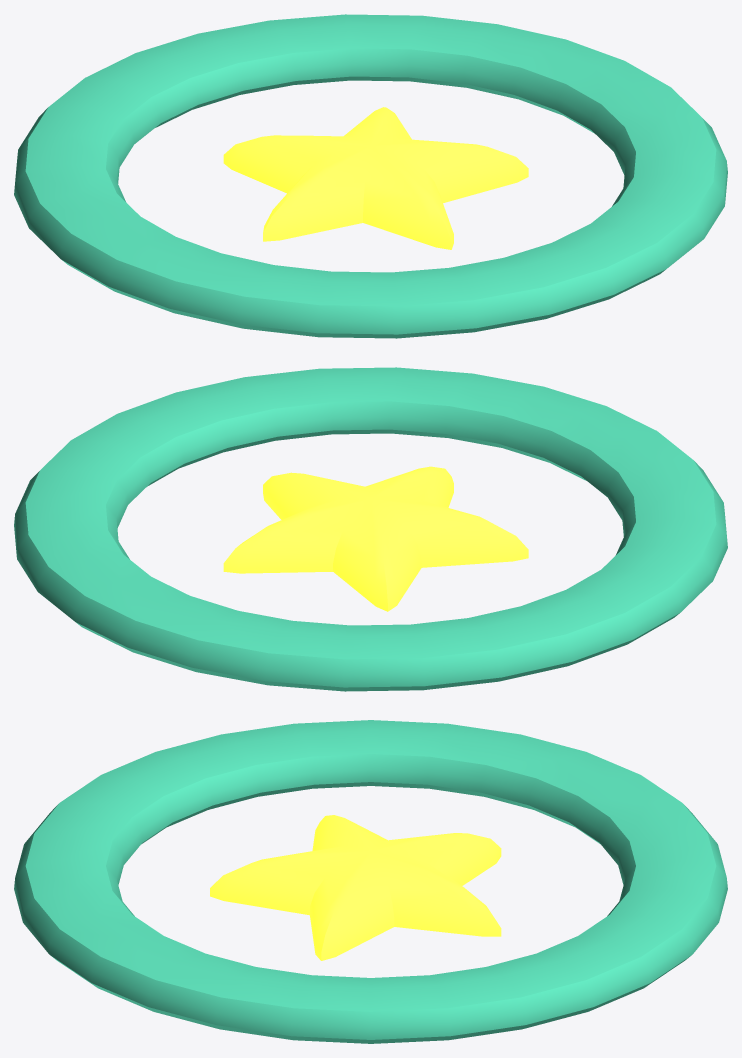
File: target.glb
The picture shows the model from 3 angles, top to bottom: view 1: azimuth 30°, elevation 25°; view 2: azimuth 150°, elevation 25°; view 3: azimuth 270°, elevation 25°; orthographic projection.
Visible parts, largest first — view 1: target; view 2: target; view 3: target.
Boxes of the visible parts, box(x1,y1,x2,y2) form: target: box(14, 14, 727, 338); target: box(14, 367, 727, 691); target: box(14, 720, 727, 1043).
Size of the model in its own units: 1.23 by 0.086 by 1.23.
